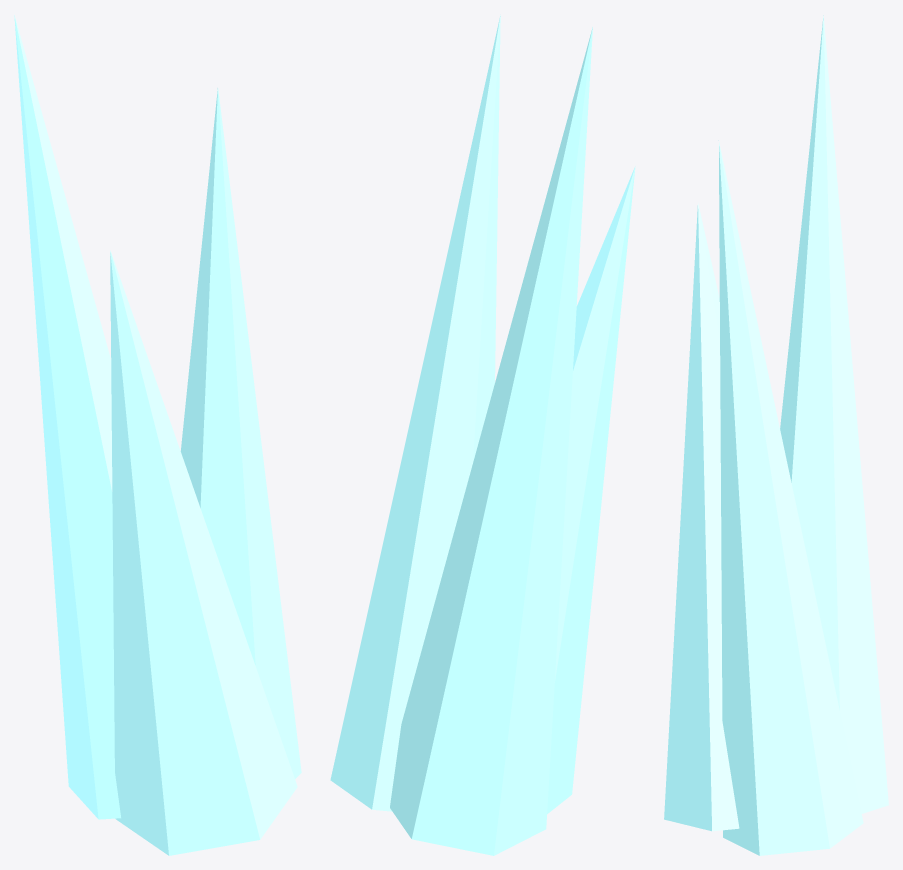
The model's file is Env_Crystal_Large.fbx.
The picture shows the model from 3 angles, left to right: view 1: azimuth 30°, elevation 25°; view 2: azimuth 150°, elevation 25°; view 3: azimuth 270°, elevation 25°; orthographic projection. The views are drawn at different scales.
Visible parts, largest first — view 1: Env_Crystal_Large; view 2: Env_Crystal_Large; view 3: Env_Crystal_Large.
Boxes of the visible parts, x1=… form: Env_Crystal_Large: x1=14, y1=15, x2=301, y2=855; Env_Crystal_Large: x1=330, y1=15, x2=635, y2=855; Env_Crystal_Large: x1=664, y1=15, x2=888, y2=855.
Bounding box in the file's own units: 1.57 × 4.83 × 1.32.
